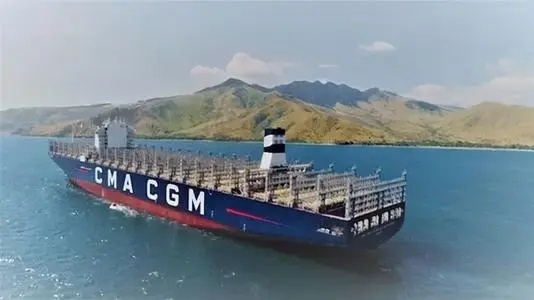Cargoship: (44, 116, 410, 250)
